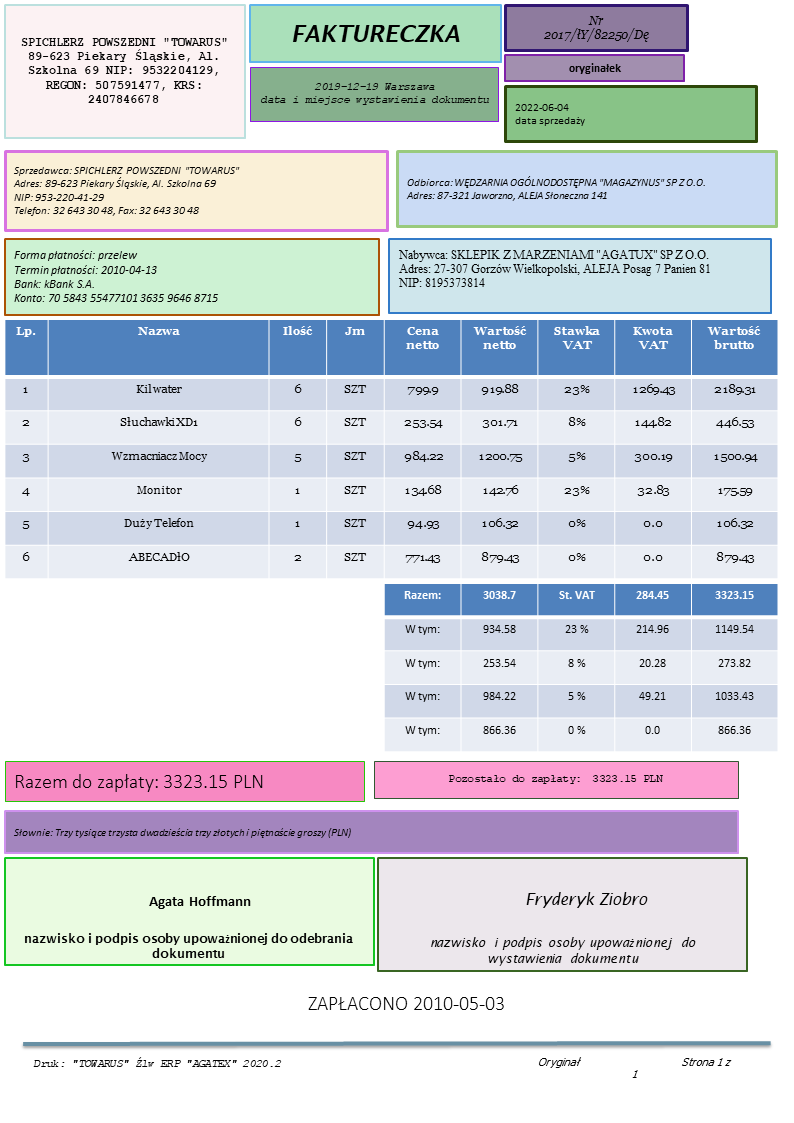Table: (4, 319, 777, 579), (383, 582, 779, 752)
TextBox: (19, 35, 228, 106), (397, 246, 714, 290), (11, 164, 243, 218), (11, 247, 220, 306), (23, 929, 354, 960), (403, 174, 708, 202), (429, 935, 697, 966), (257, 78, 491, 106), (13, 772, 264, 794), (11, 825, 353, 841), (537, 1056, 735, 1080), (306, 993, 507, 1013), (291, 22, 461, 45), (542, 13, 653, 44), (447, 772, 664, 787), (32, 1057, 282, 1070), (523, 888, 650, 911), (513, 101, 587, 128), (147, 894, 252, 911), (567, 60, 623, 77)
